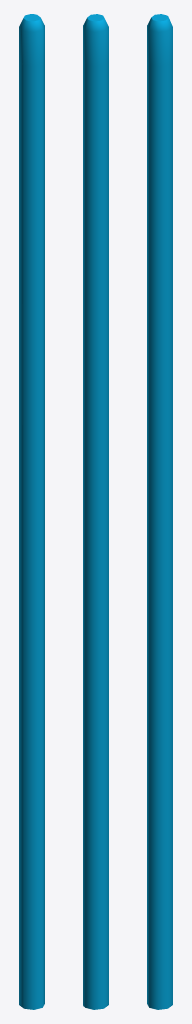
File: Fence_Warehouse_Break_02.fbx
3 renders of one model, left to right at view 1: azimuth 30°, elevation 25°; view 2: azimuth 150°, elevation 25°; view 3: azimuth 330°, elevation 25°, orthographic.
Visible parts, largest first — view 1: Fence_Warehouse_Break_02; view 2: Fence_Warehouse_Break_02; view 3: Fence_Warehouse_Break_02.
Boxes of the visible parts, bbox=[...] form: Fence_Warehouse_Break_02: bbox=[19, 14, 44, 1009]; Fence_Warehouse_Break_02: bbox=[83, 14, 108, 1009]; Fence_Warehouse_Break_02: bbox=[147, 14, 172, 1009].
Bounding box in the file's own units: 7.81 × 352 × 8.16.
